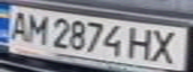2: (48, 15, 72, 49)
4: (103, 21, 127, 57)
7: (81, 19, 106, 54)
8: (66, 17, 87, 52)
A: (3, 8, 33, 42)
H: (124, 25, 160, 61)
M: (21, 11, 51, 45)
X: (145, 27, 184, 65)
